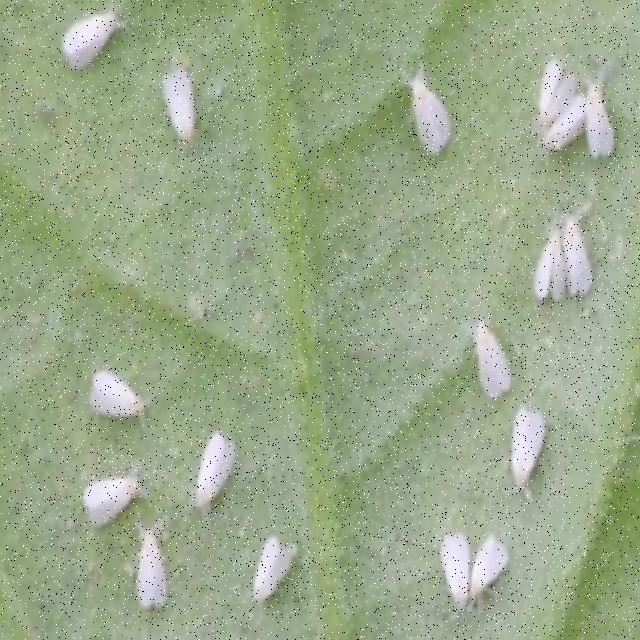Whiteflies: (529, 41, 624, 174), (489, 367, 556, 498), (524, 204, 605, 300), (71, 453, 158, 541), (184, 412, 245, 533), (151, 45, 216, 150), (53, 4, 134, 83), (473, 498, 519, 636), (400, 60, 458, 167), (463, 306, 522, 408), (431, 521, 479, 616), (252, 521, 306, 602), (91, 360, 152, 425), (127, 528, 176, 607)
